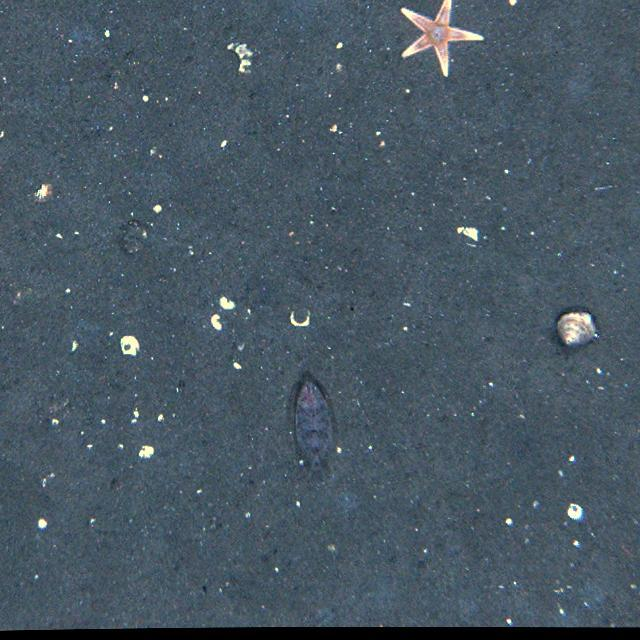flatfish: (292, 371, 346, 492)
